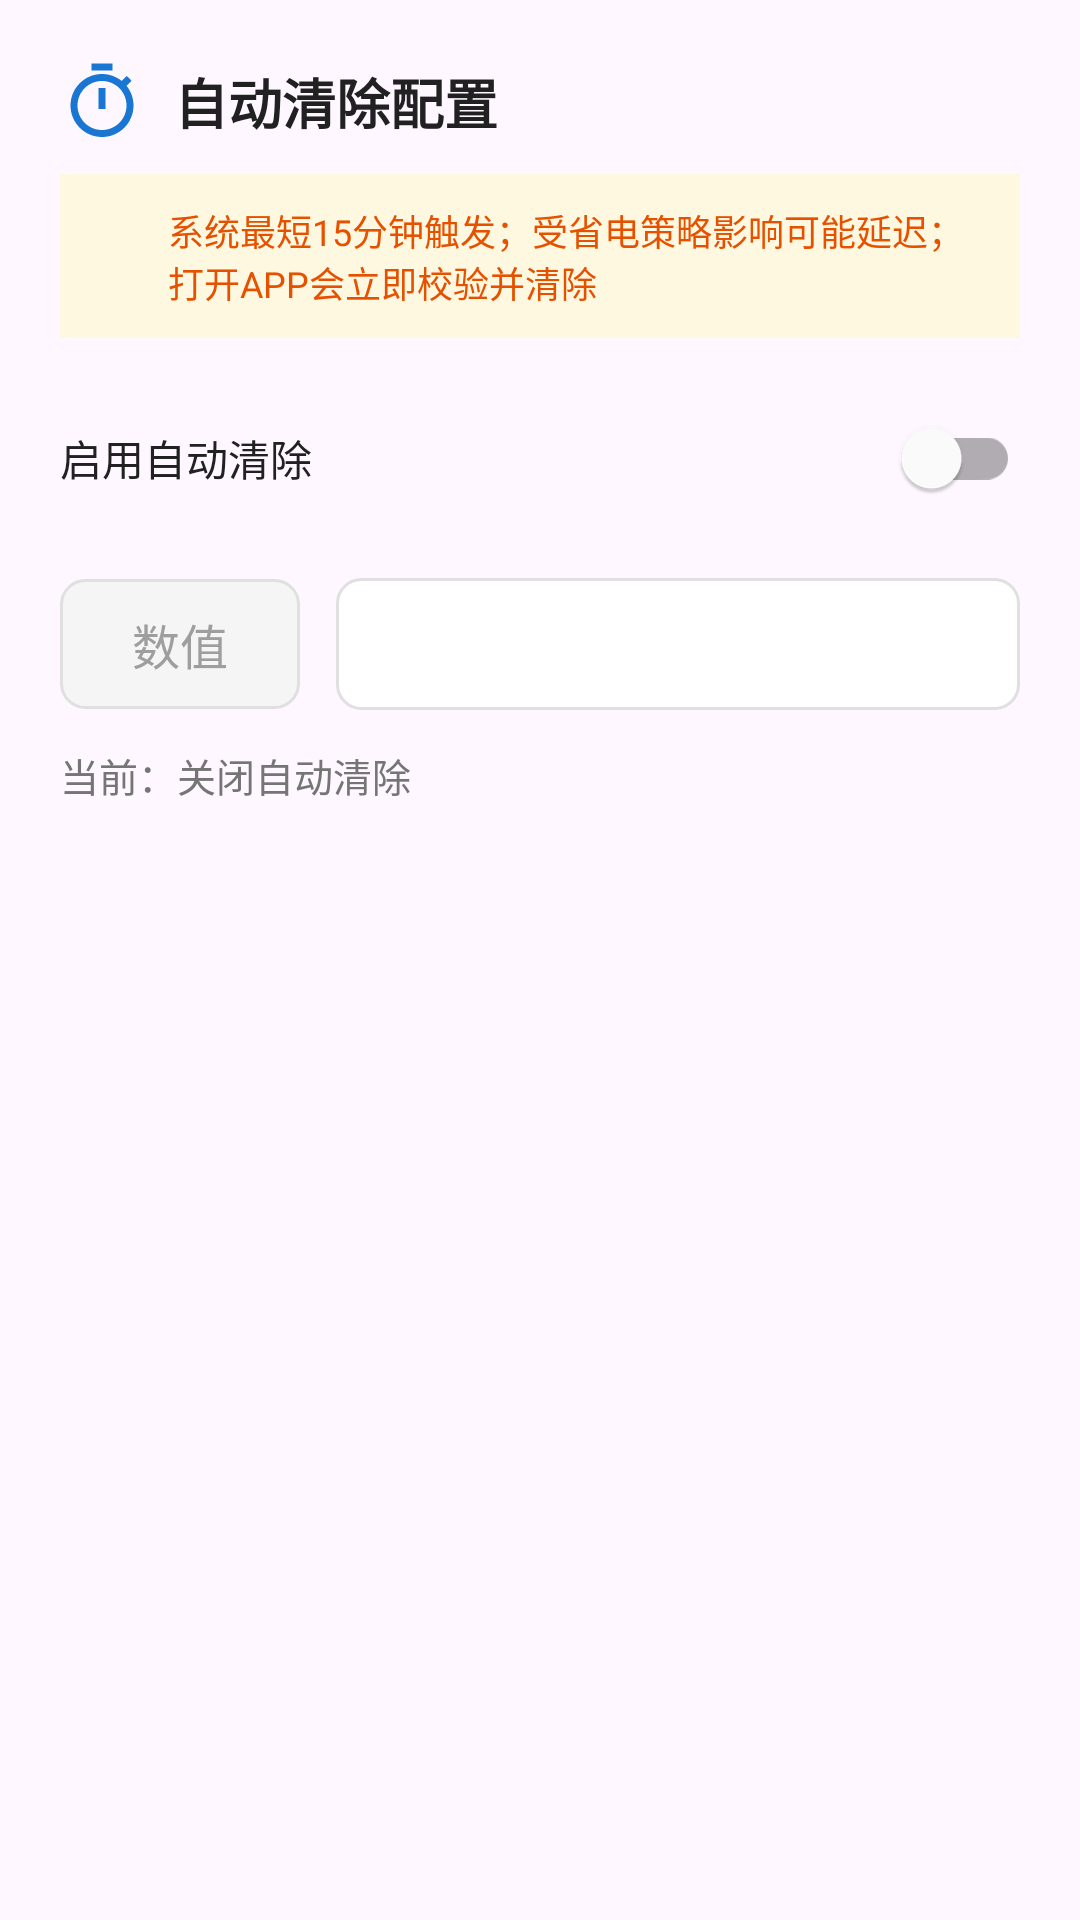

Named icons in this screenshot (1080×1920) and their bounding boxes, detection(x1, y1, x2, y2):
timer: detection(70, 63, 134, 137)
